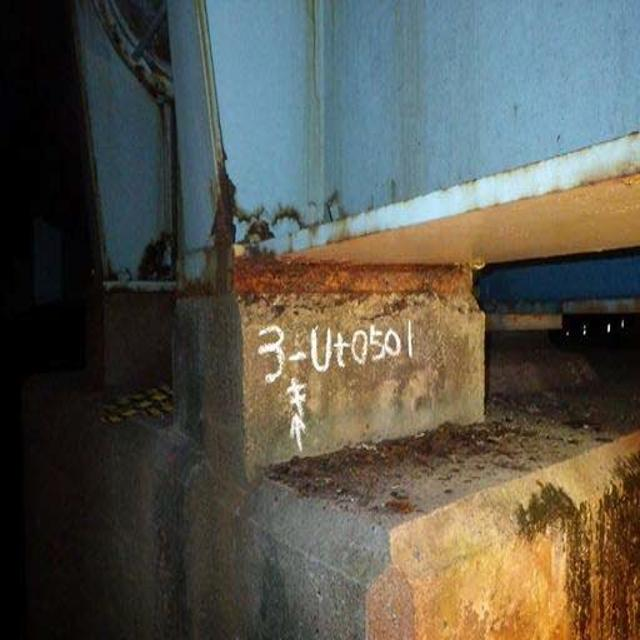corrosion: (161, 226, 503, 307)
